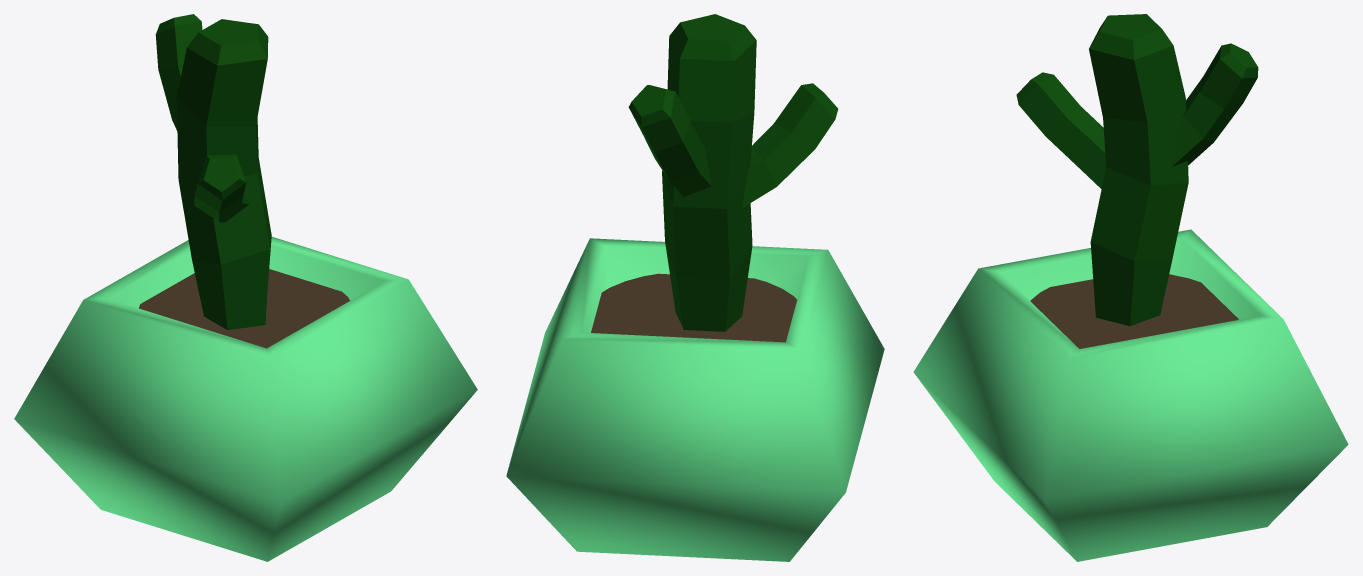
File: potted-cactus.glb
3 renders of one model, left to right at view 1: azimuth 30°, elevation 25°; view 2: azimuth 150°, elevation 25°; view 3: azimuth 270°, elevation 25°, orthographic. The views are drawn at different scales.
Parts seen in each view (by area): view 1: Cube.001; view 2: Cube.001; view 3: Cube.001.
Part boxes in pixels (x1,y1,x2,y2): Cube.001: (14, 14, 477, 561); Cube.001: (506, 14, 884, 561); Cube.001: (913, 14, 1348, 561).
Size of the model in its own units: 5.9 by 7.05 by 5.9.
